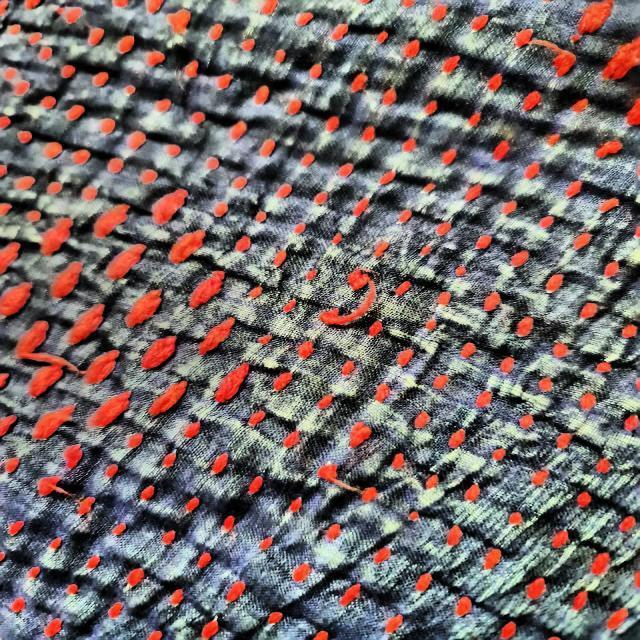gray stitch: (312, 259, 407, 347), (12, 339, 87, 389)
